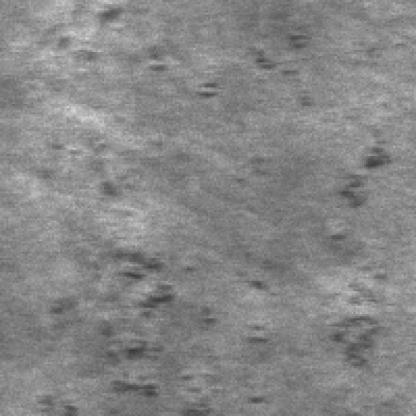rolled-in_scale: (58, 156, 212, 410), (310, 133, 391, 385), (71, 31, 312, 106)
